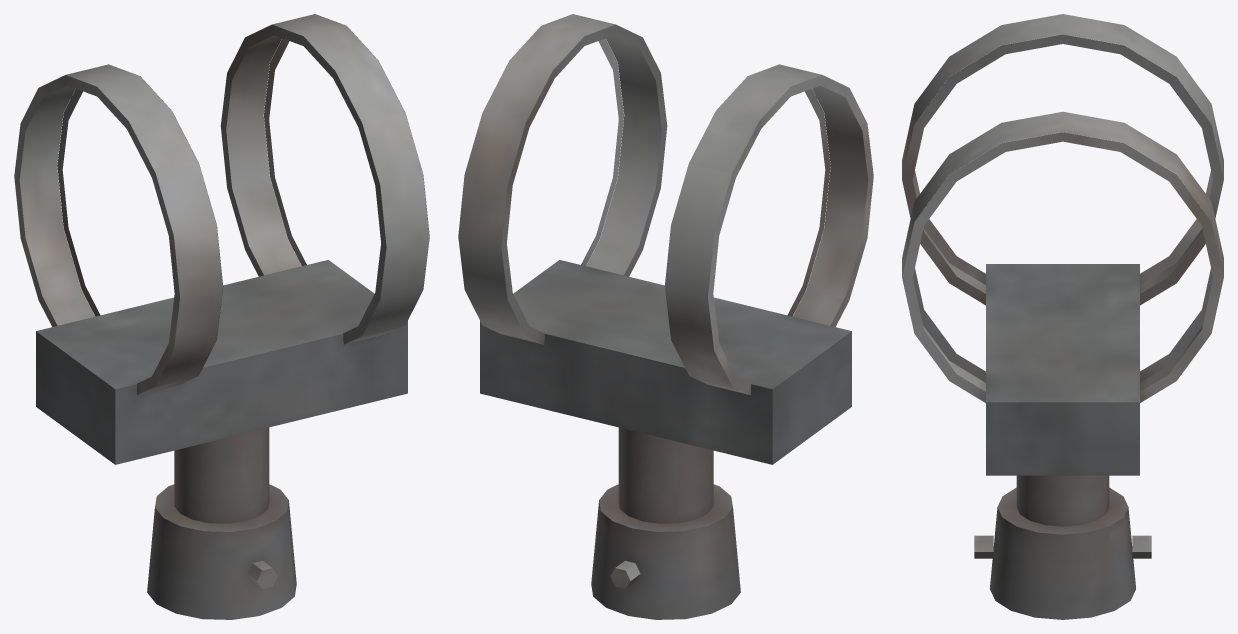
File: mastMount1-v1-galvanised.glb
3 views of the same model, side by side, from view 1: azimuth 30°, elevation 25°; view 2: azimuth 150°, elevation 25°; view 3: azimuth 270°, elevation 25° (orthographic). The views are drawn at different scales.
Visible parts, largest first — view 1: mastMount1-v1-galvanised; view 2: mastMount1-v1-galvanised; view 3: mastMount1-v1-galvanised.
Boxes of the visible parts, <box> form: mastMount1-v1-galvanised: <box>14,14,429,619</box>; mastMount1-v1-galvanised: <box>458,14,873,619</box>; mastMount1-v1-galvanised: <box>902,14,1223,619</box>.
Size of the model in its own units: 0.17 by 0.2955 by 0.167.
Materials: 1 (1 with a texture image).
